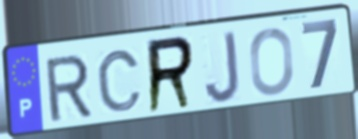7: (298, 16, 342, 93)
C: (94, 47, 145, 114)
J: (202, 28, 242, 105)
O: (248, 25, 296, 98)
R: (145, 33, 196, 118), (43, 51, 95, 124)
